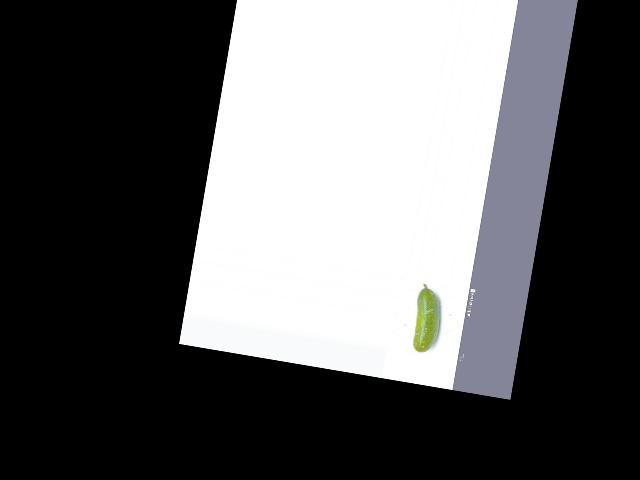cucumber: (408, 282, 445, 355)
